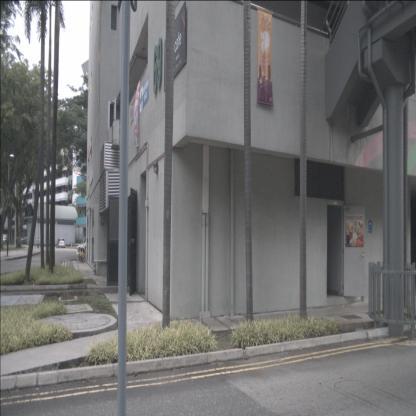cone: (71, 242, 73, 248)
